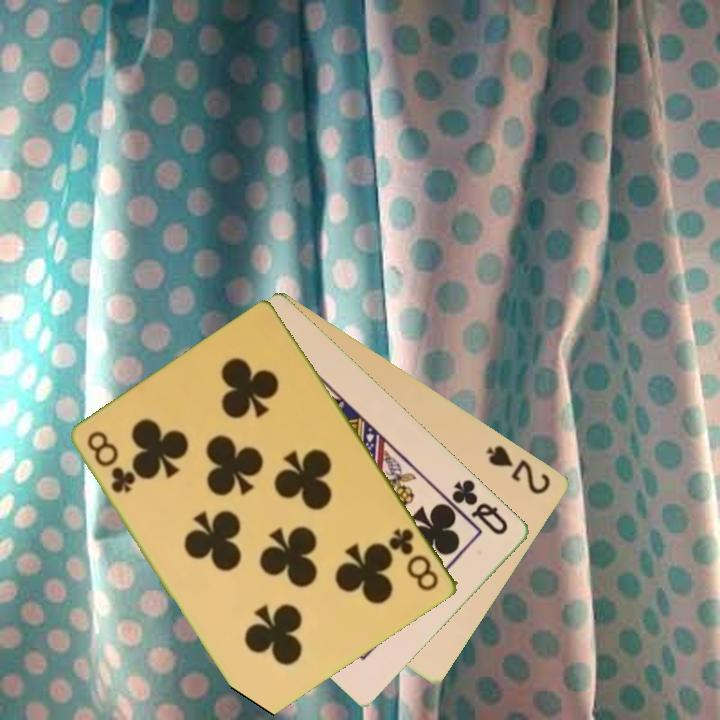2s: (483, 441, 554, 498)
8c: (385, 525, 442, 594), (83, 427, 138, 497)
Qc: (448, 475, 512, 538)
